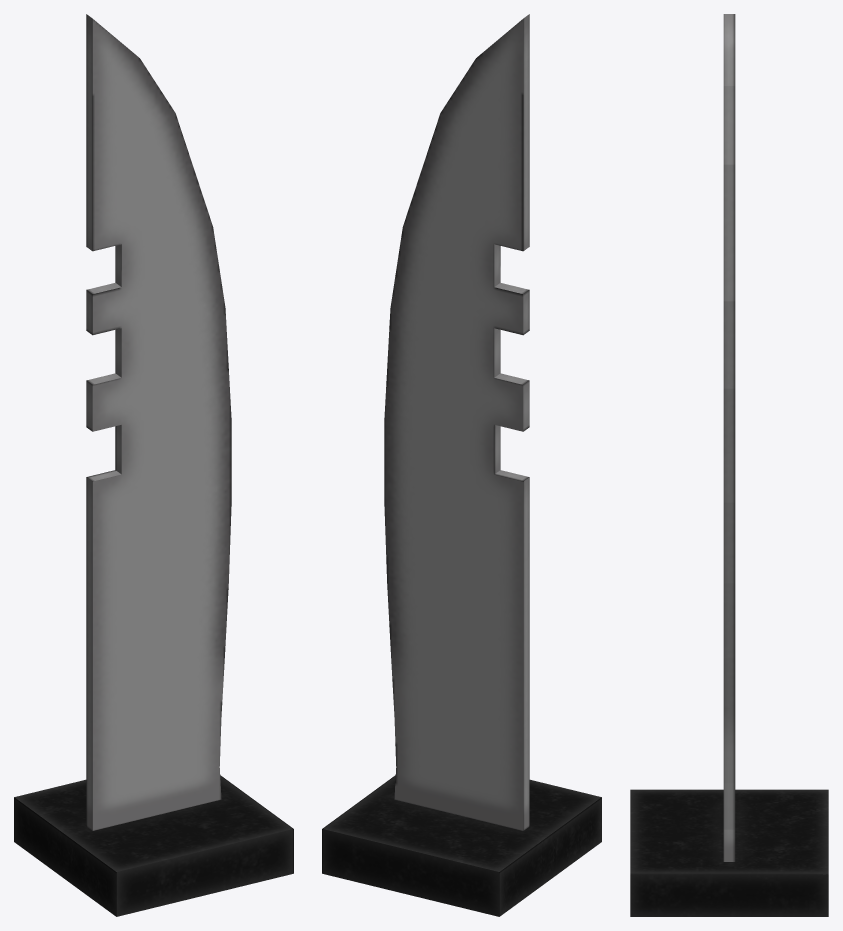
File: Knife.glb
The picture shows the model from 3 angles, left to right: view 1: azimuth 30°, elevation 25°; view 2: azimuth 150°, elevation 25°; view 3: azimuth 270°, elevation 25°; orthographic projection. The views are drawn at different scales.
Parts seen in each view (by area): view 1: Cube; view 2: Cube; view 3: Cube.
Part boxes in pixels (<box>): Cube: <box>14,14,293,916</box>; Cube: <box>322,14,601,916</box>; Cube: <box>630,14,828,916</box>.
Bounding box in the file's own units: 2 × 9.24 × 2.
1 material, 1 textured.
